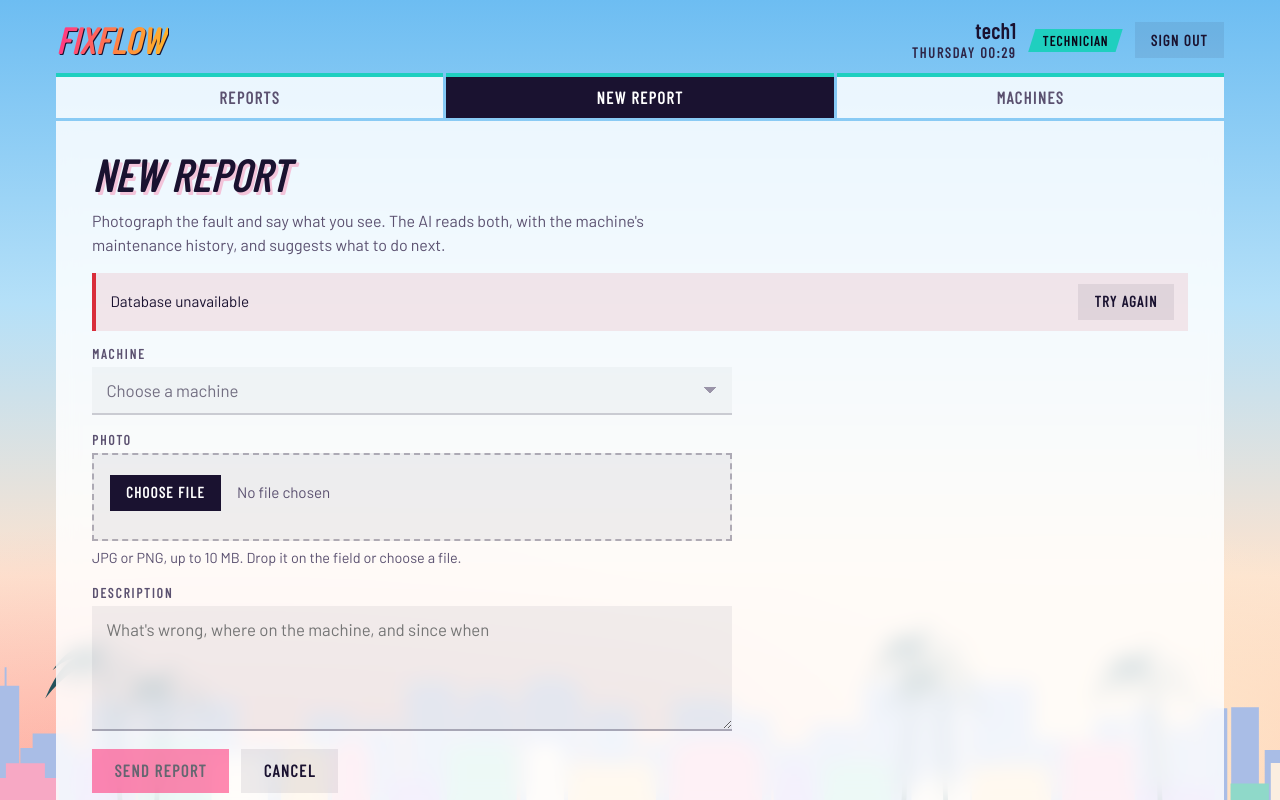
new report page › offers to try again when the machines don’t load
Expected: the message shows "Database unavailable", [110,292,249,310]
Expected: the dropdown labelled "Machine" is disabled, [92,367,732,415]
Click the button "Try again": (1126, 302) [1078,284,1174,320]
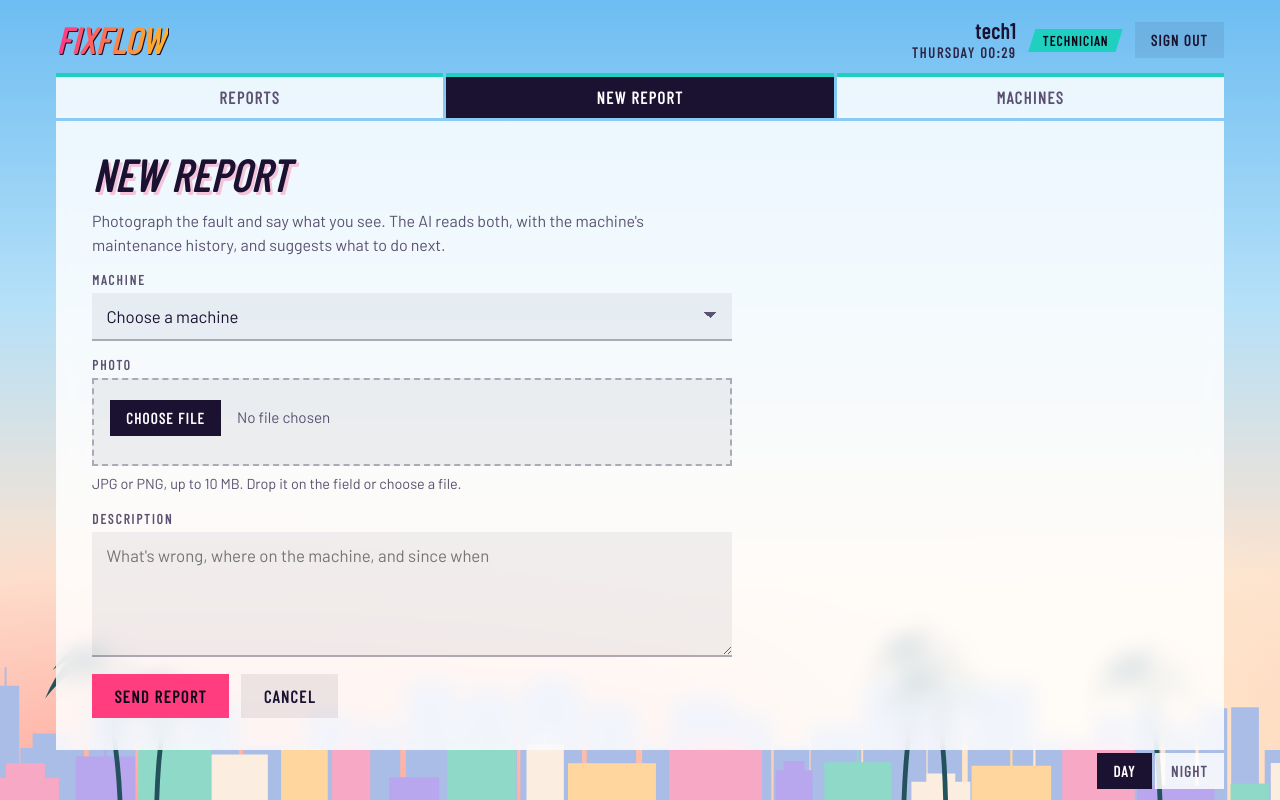
Now the dropdown labelled "Machine" is enabled, box [92,293,732,341]
Now the message "Database unavailable Try again" is gone
